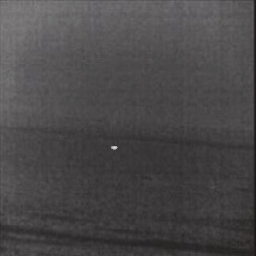Target: (108, 144, 119, 151)
